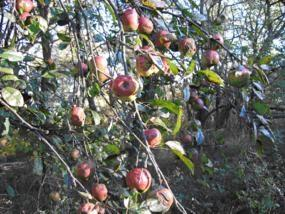apple: (112, 73, 141, 103), (126, 169, 150, 193), (120, 9, 139, 32), (90, 182, 108, 201), (146, 128, 162, 148), (138, 16, 154, 33), (70, 107, 86, 124), (15, 1, 31, 17)
